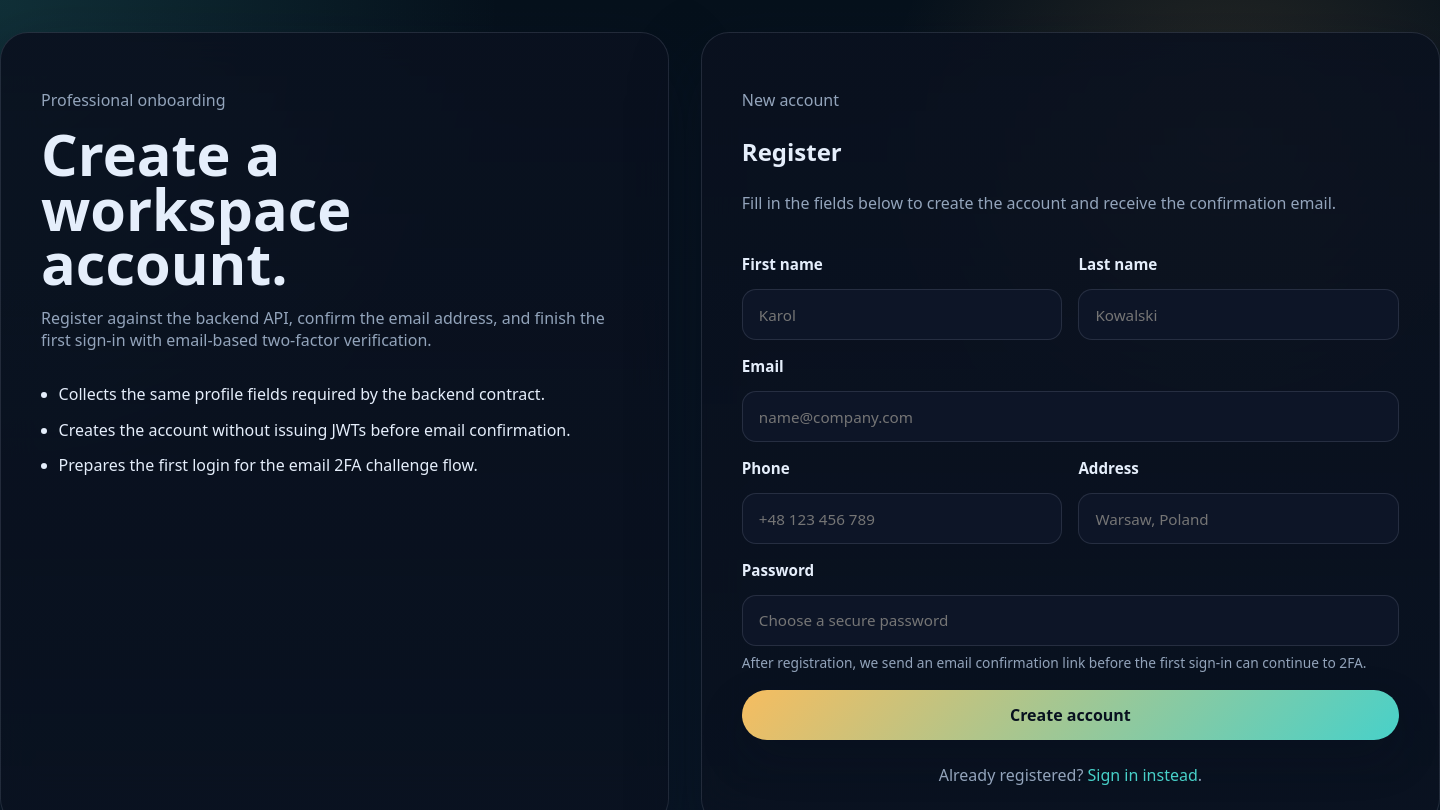
it: Register page › shows validation errors when register fields are malformed
Type "wrong-format" into the field labelled "Email" at (1070, 417), box [742,391,1399,442]
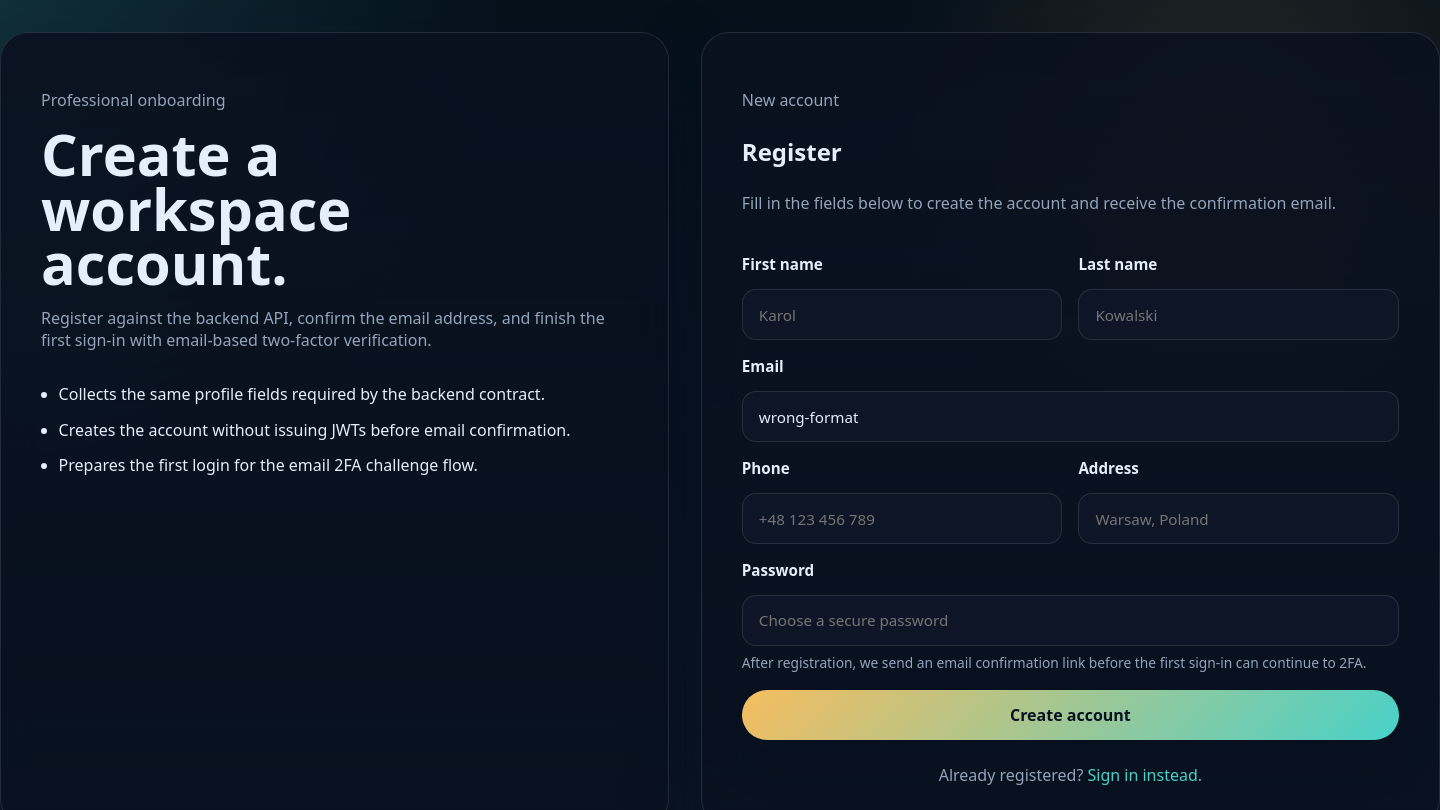
Type "123" into the field labelled "Phone" at (902, 518), box [742,493,1062,544]
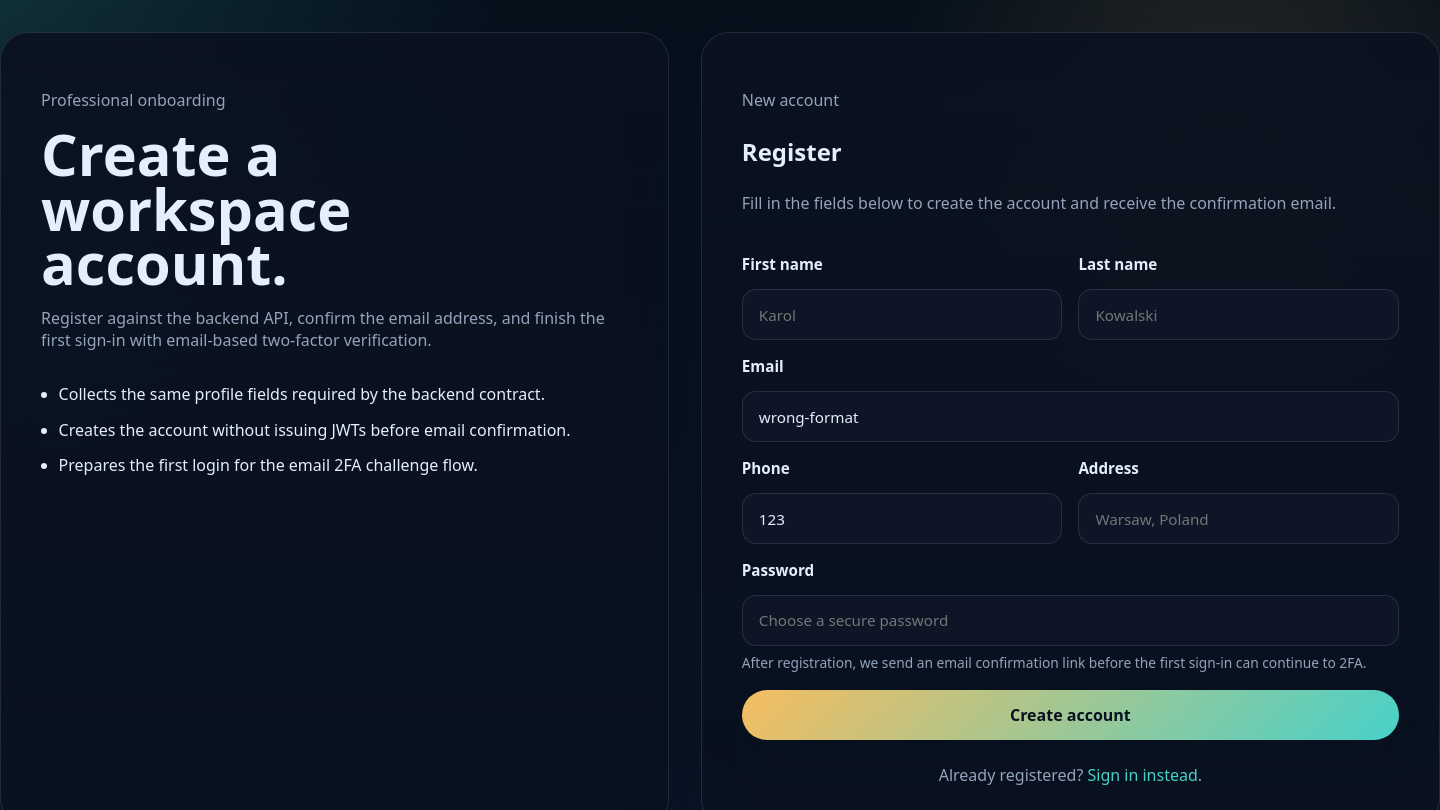
Type "ab" into the field labelled "Address" at (1239, 518), box [1078,493,1399,544]
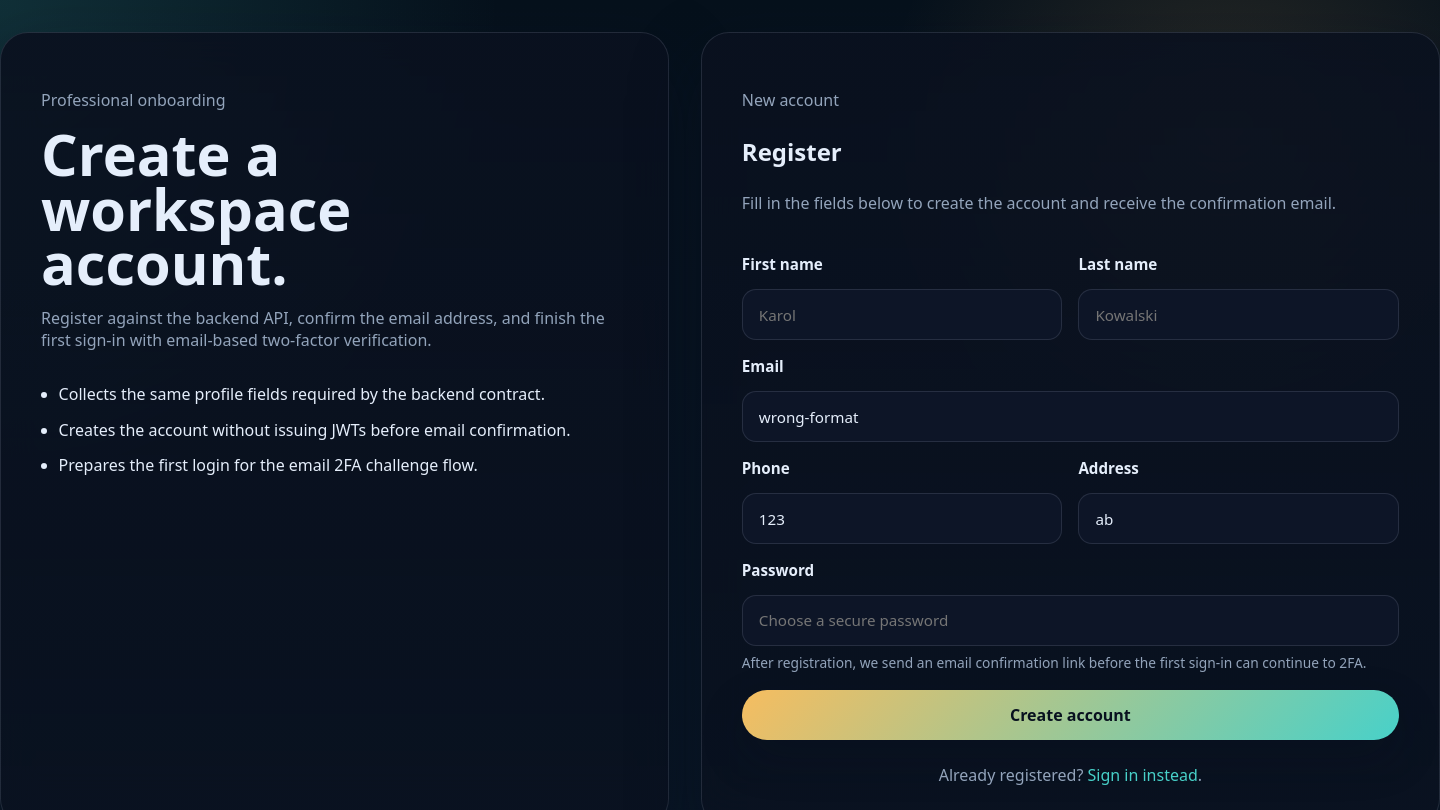
Type "123" into the password field labelled "Password" at (1070, 620), box [742,595,1399,646]
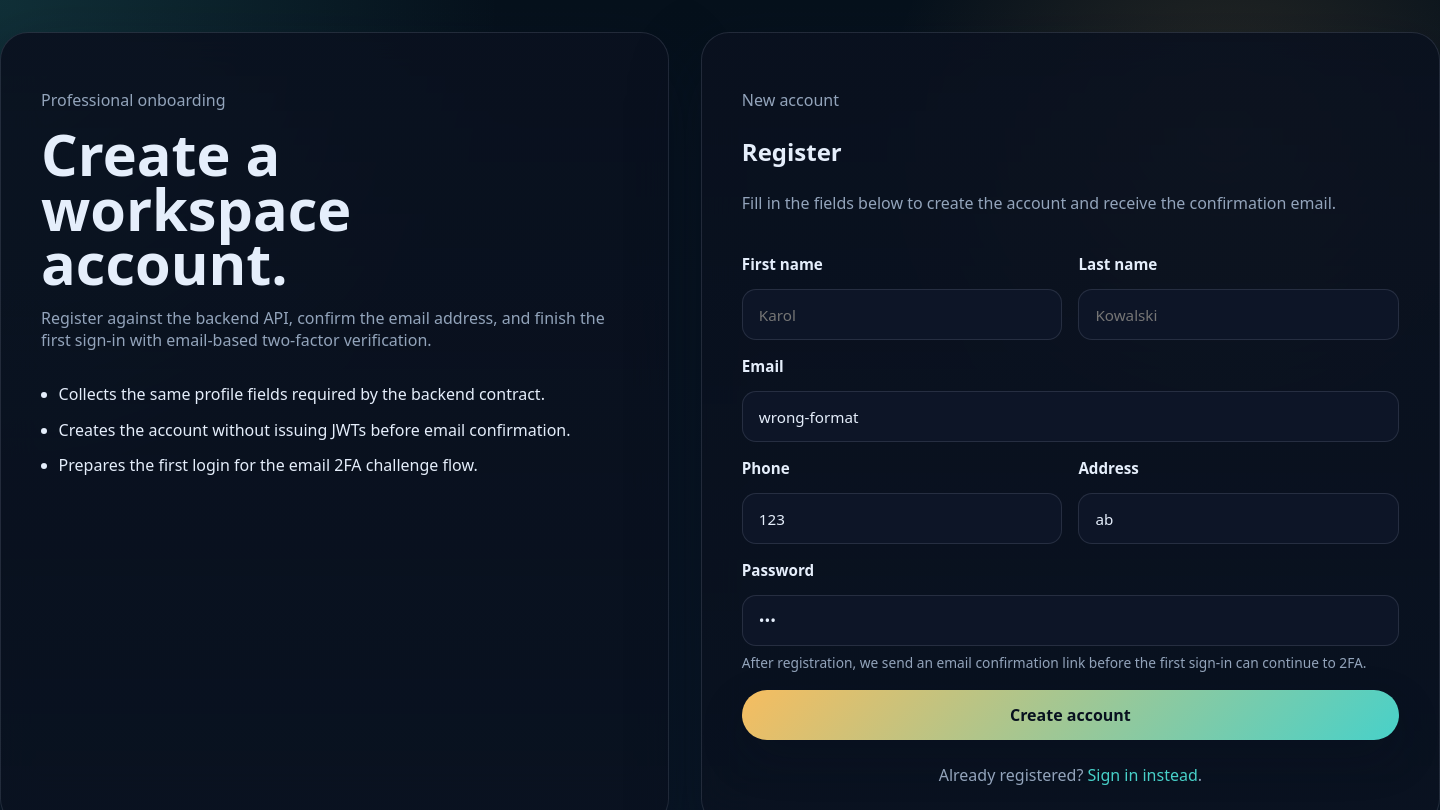
Click the button "Create account" at (1070, 715), box [742,690,1399,740]
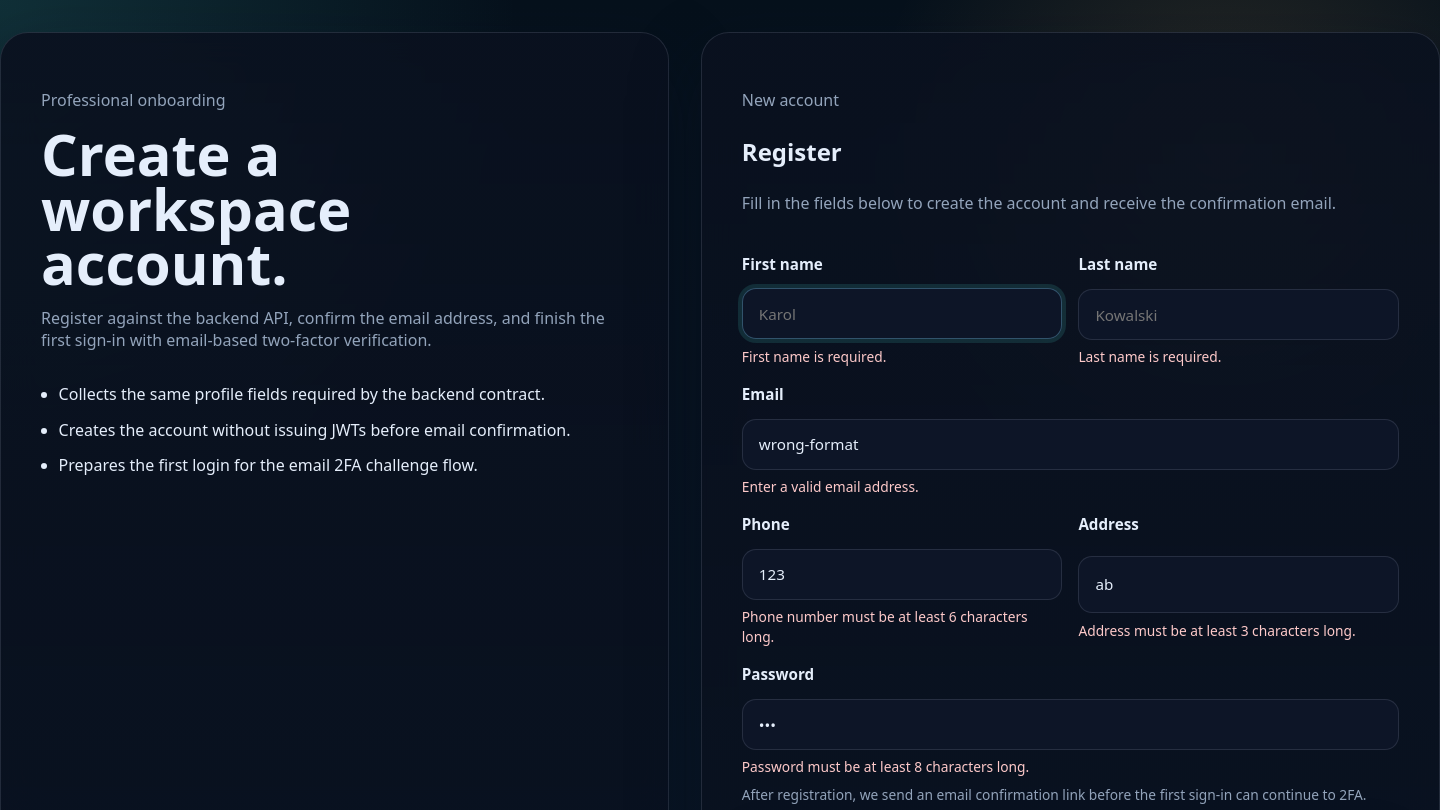
Result: the text "First name is required." is shown at [742,347,886,366]
Result: the text "Last name is required." is shown at [1078,347,1222,366]
Result: the text "Enter a valid email address." is shown at [742,477,919,496]
